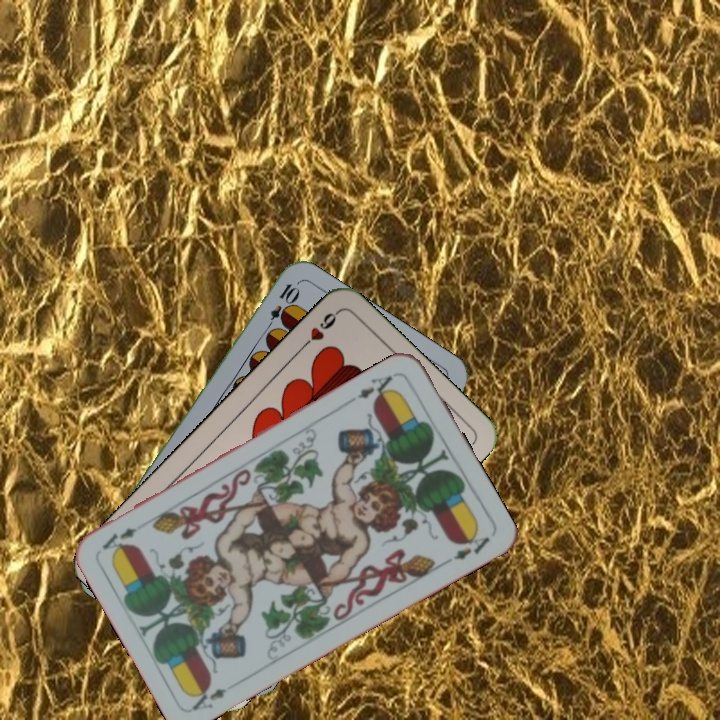E10: (261, 279, 301, 335)
EA: (346, 368, 400, 405), (186, 680, 229, 713)
H9: (296, 307, 342, 353)
